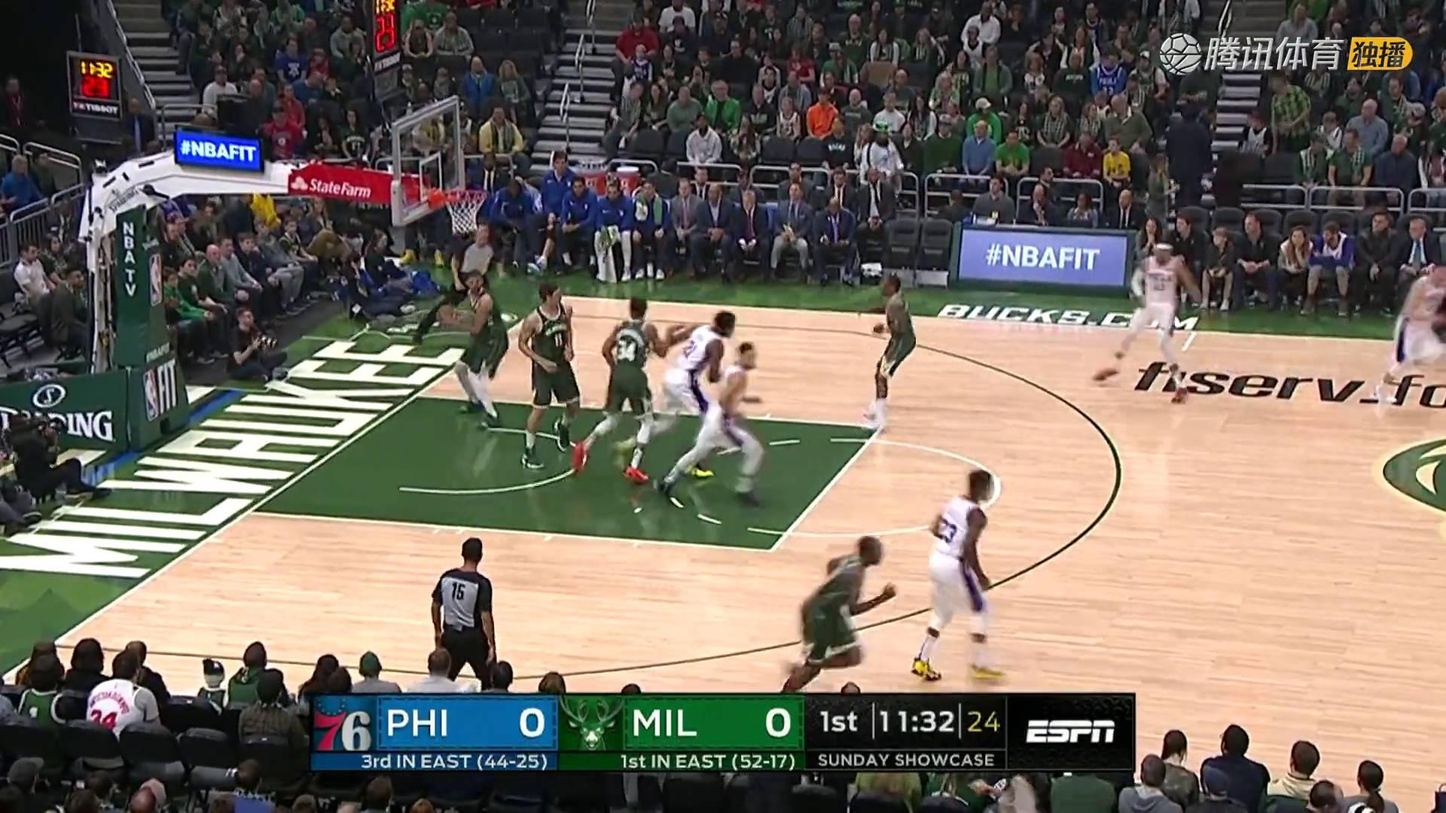basketball: (435, 306, 453, 326)
